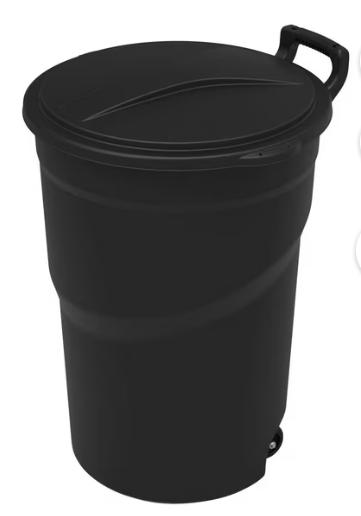garbage container: (18, 20, 356, 509)
